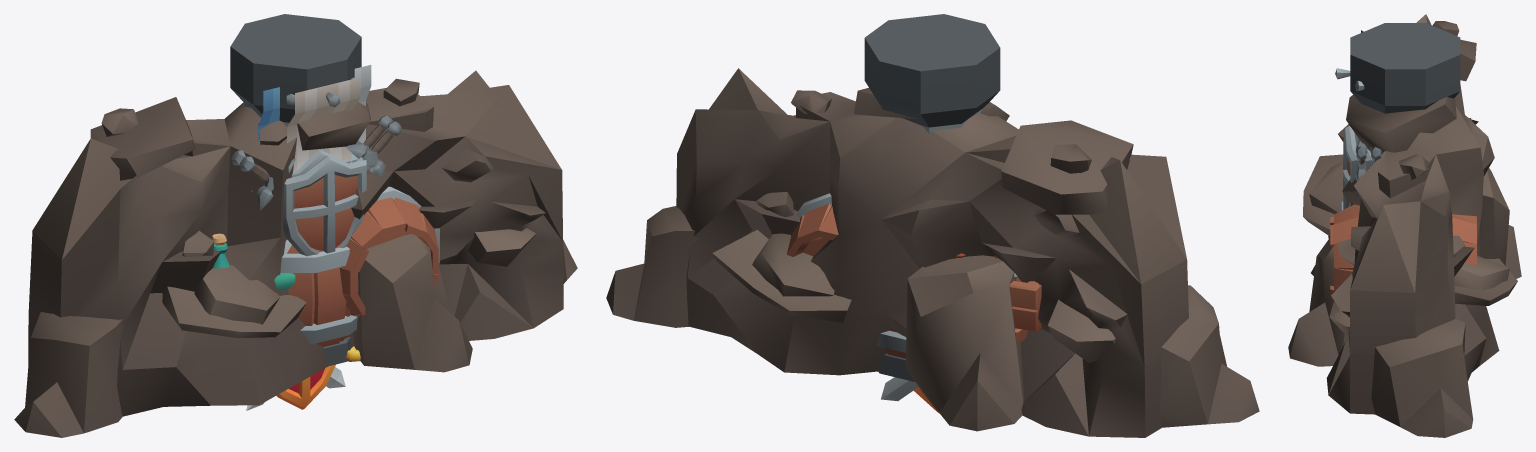
The model's file is dungeon.glb.
3 views of the same model, side by side, from view 1: azimuth 30°, elevation 25°; view 2: azimuth 150°, elevation 25°; view 3: azimuth 270°, elevation 25° (orthographic). The views are drawn at different scales.
Visible parts, largest first — view 1: rubble_large, pillar_decorated, keg_decorated, barrel_large, sword_shield_gold, banner_patternA_blue, banner_shield_white; view 2: rubble_large, pillar_decorated, keg_decorated, sword_shield_gold, barrel_large; view 3: rubble_large, pillar_decorated, keg_decorated, banner_shield_white.
Part boxes in pixels (x1,y1,x2,y2): rubble_large: (14, 70, 577, 437); pillar_decorated: (230, 14, 401, 365); keg_decorated: (211, 186, 439, 316); barrel_large: (280, 244, 357, 346); sword_shield_gold: (246, 364, 345, 410); banner_patternA_blue: (257, 65, 371, 143); banner_shield_white: (231, 77, 393, 191); rubble_large: (606, 68, 1259, 437); pillar_decorated: (864, 14, 1000, 381); keg_decorated: (786, 193, 1041, 344); sword_shield_gold: (881, 377, 939, 413); barrel_large: (877, 327, 906, 358); rubble_large: (1288, 14, 1521, 437); pillar_decorated: (1335, 23, 1460, 209); keg_decorated: (1330, 204, 1476, 295); banner_shield_white: (1356, 81, 1381, 171).
Size of the model in its own units: 8.13 by 4.81 by 3.18.
Materials: 1 (1 with a texture image).
